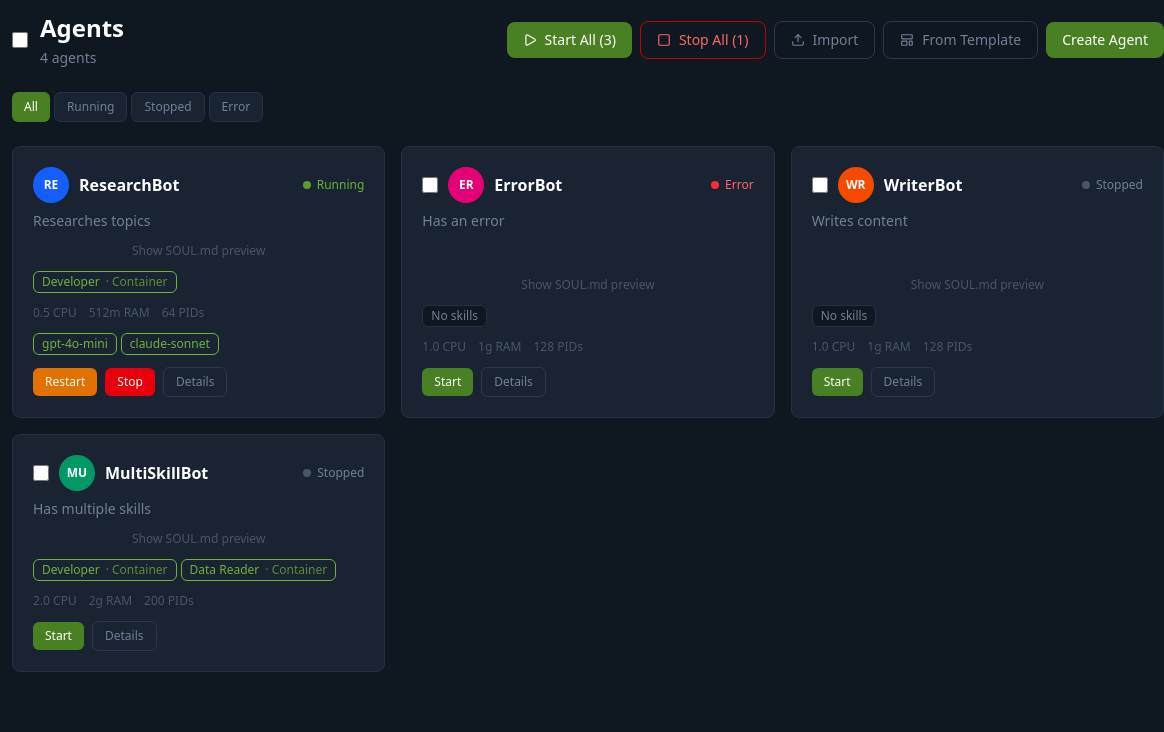
Test case: AgentsClient › start warnings (app#408) › bulk-stopping an agent with a stale start warning clears the warning
Expected: the link "WriterBot" is shown, top-left (884, 173), bottom-right (962, 197)
Start WriterBot (agent-2) with a degraded-start warning.
What coordinates should you click on to do the following:
click the button "Start" below "Writes content"
I would click on:
 (837, 382)
Its box is top-left (812, 368), bottom-right (863, 396).
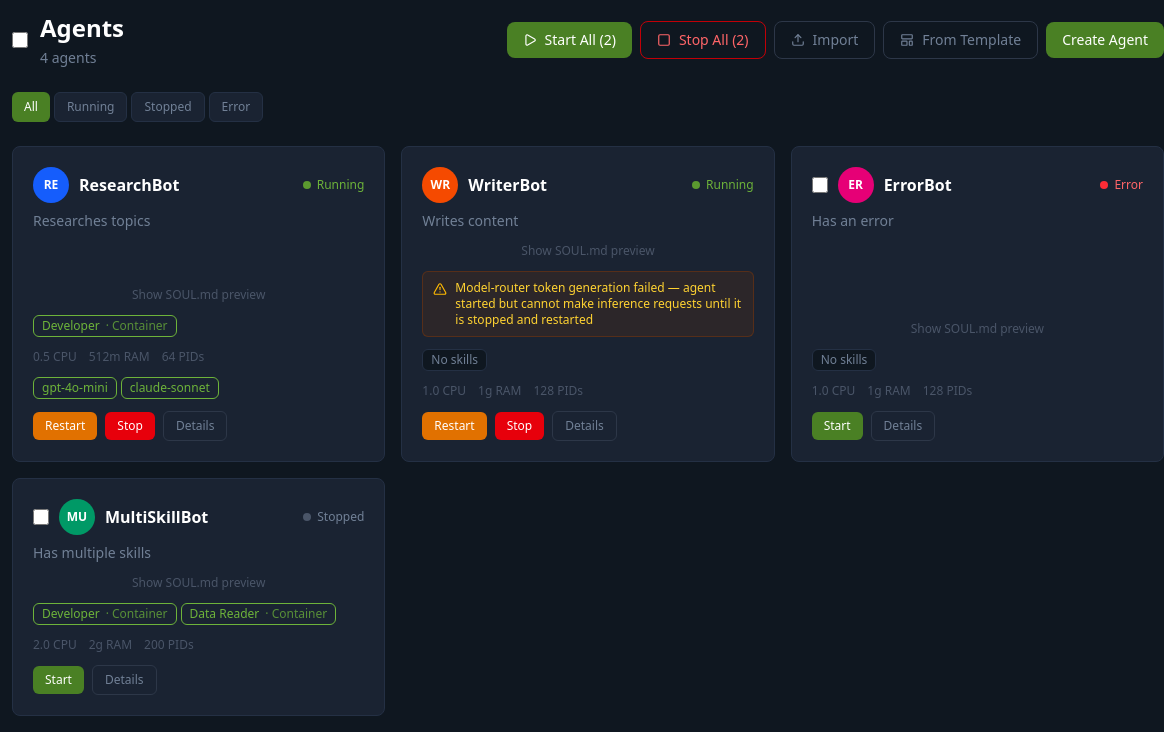
Expected: the element with test id "start-warnings-agent-2" is shown, top-left (422, 271), bottom-right (754, 337)
What coordinates should you click on to do the following:
click the button "Stop All (2)"
I would click on:
 (703, 40)
Its box is top-left (640, 21), bottom-right (766, 59).
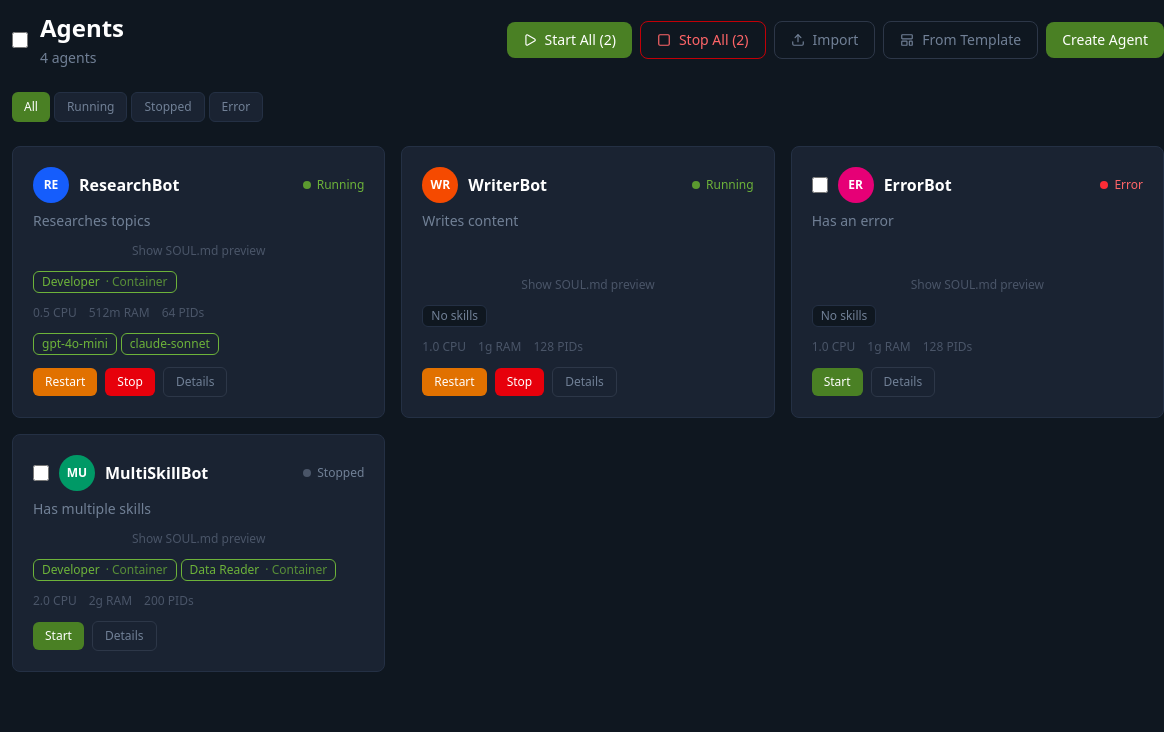
Expected: the element with test id "start-warnings-agent-2" is gone
Expected: the text "Model-router token generation failed — agent started but cannot make inference requests until it is stopped and restarte" is gone
